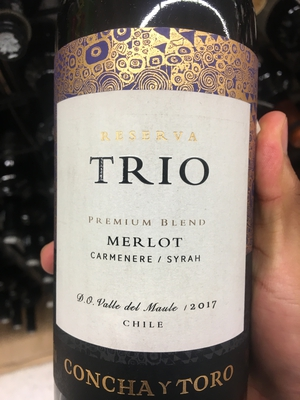trio merlot: (53, 5, 267, 392)
